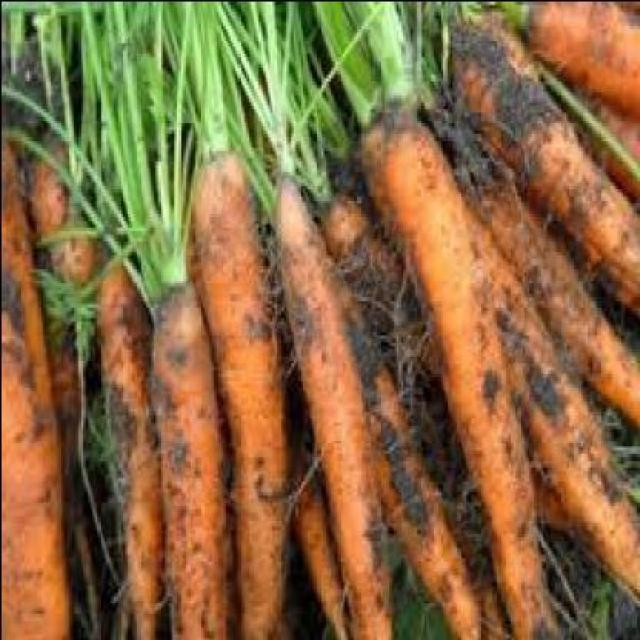BIODEGRADABLE: (357, 105, 554, 637), (317, 191, 514, 637), (462, 205, 638, 604), (332, 222, 483, 636), (432, 117, 638, 418), (450, 1, 638, 308), (272, 167, 394, 636), (0, 1, 195, 286), (191, 142, 292, 636), (122, 1, 350, 192), (2, 132, 73, 637), (149, 275, 225, 636), (242, 2, 450, 122), (98, 261, 164, 636), (31, 143, 98, 365), (294, 400, 346, 637), (526, 2, 639, 109), (577, 97, 638, 200), (401, 0, 527, 35), (530, 459, 568, 528)
